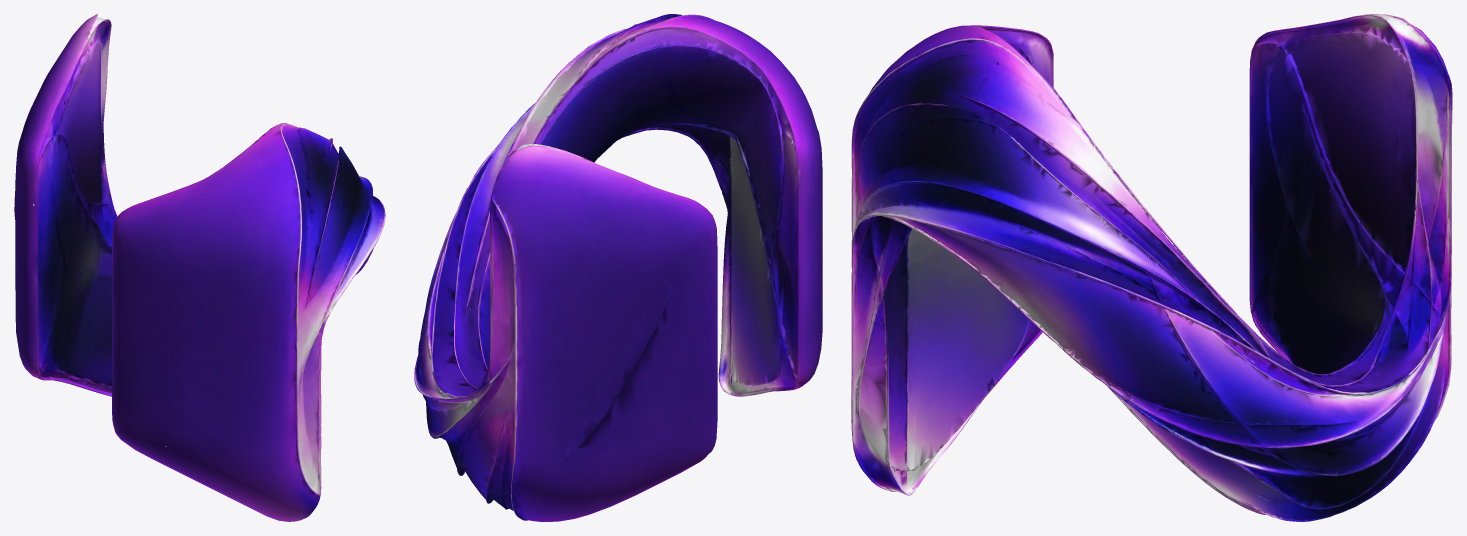
The model's file is nayro-n-mobile.glb.
The picture shows the model from 3 angles, left to right: view 1: azimuth 30°, elevation 25°; view 2: azimuth 150°, elevation 25°; view 3: azimuth 270°, elevation 25°; orthographic projection. The views are drawn at different scales.
Parts seen in each view (by area): view 1: tripo_node_87027306-d535-4daf-8b46-c87feeb169d0; view 2: tripo_node_87027306-d535-4daf-8b46-c87feeb169d0; view 3: tripo_node_87027306-d535-4daf-8b46-c87feeb169d0.
Boxes of the visible parts, x1,y1,x2,y2 form: tripo_node_87027306-d535-4daf-8b46-c87feeb169d0: (14, 14, 385, 521); tripo_node_87027306-d535-4daf-8b46-c87feeb169d0: (414, 14, 822, 521); tripo_node_87027306-d535-4daf-8b46-c87feeb169d0: (851, 14, 1452, 521).
Size of the model in its own units: 0.6845 by 0.8566 by 0.9804.
1 material, 1 textured.
